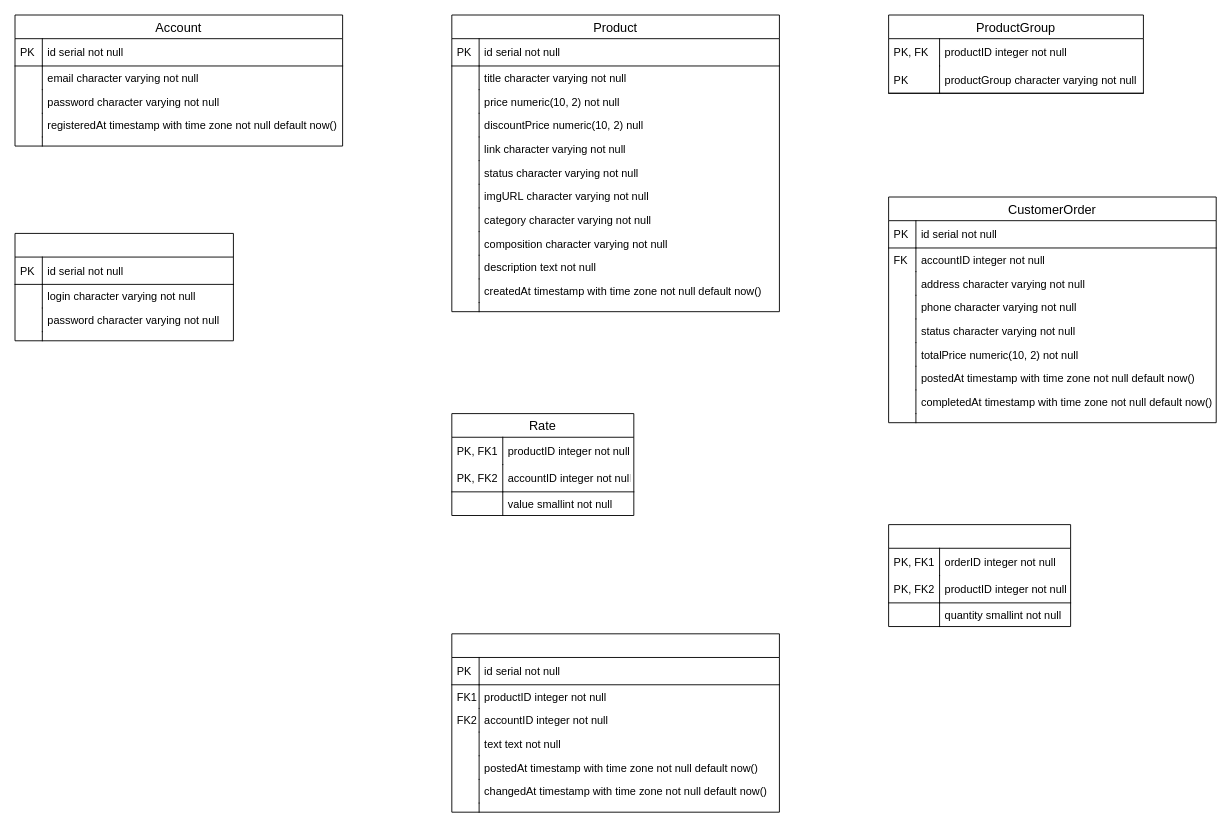
Image size: 1231x827. Some labels were removed from this diagram. Each missing label, with the box of its shape:
AdminPanel: (14, 233, 233, 341)
OrderList: (888, 524, 1071, 627)
Review: (451, 633, 779, 812)
